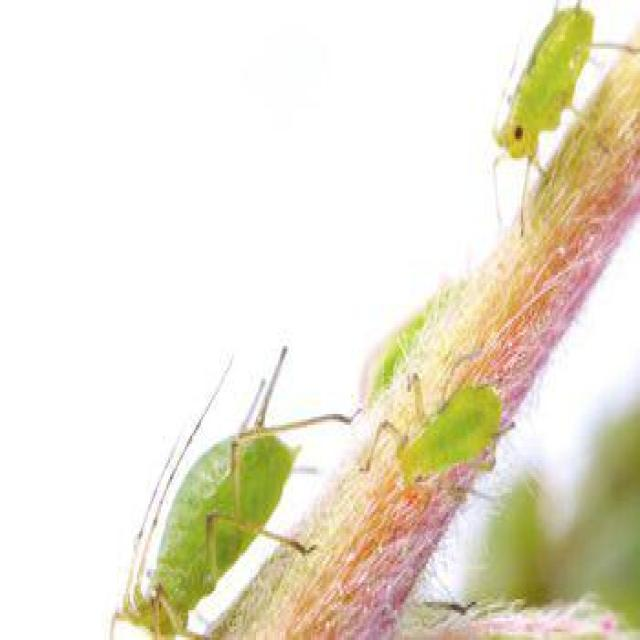Aphids: (95, 322, 329, 625), (487, 1, 623, 216)
